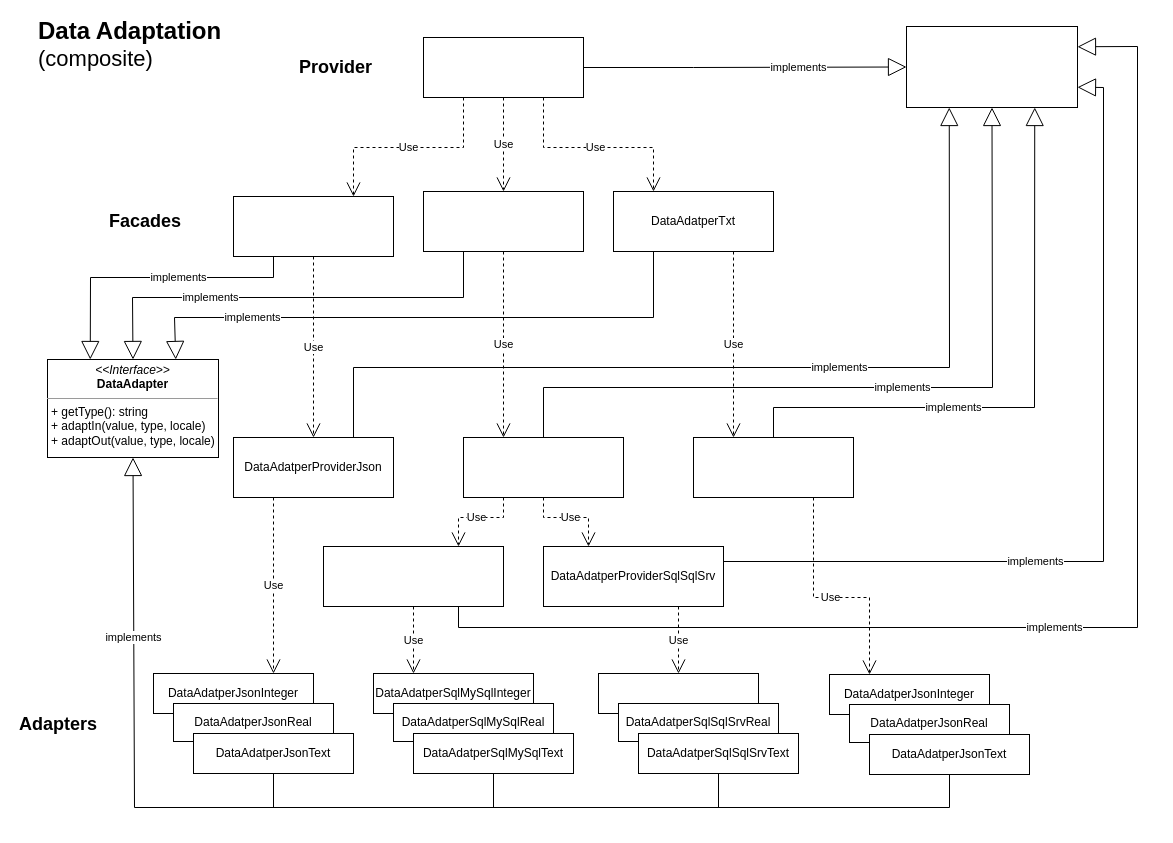
Image size: 1173x843. Some labels were removed from this diagram. Each missing label, with the centre of its shape:
"<<Interface>> AdapterProvider + get(type): DataAdapter" goes at pixel 992 67.
"DataAdatperJson" goes at pixel 313 226.
"DataAdatperProvider <Service>" goes at pixel 503 67.
"DataAdatperProviderSql" goes at pixel 543 467.
"DataAdatperProviderSqlMySql" goes at pixel 413 576.
"DataAdatperProviderTxt" goes at pixel 773 467.
"DataAdatperSql" goes at pixel 503 221.
"DataAdatperSqlSqlSrvInteger" goes at pixel 678 693.
